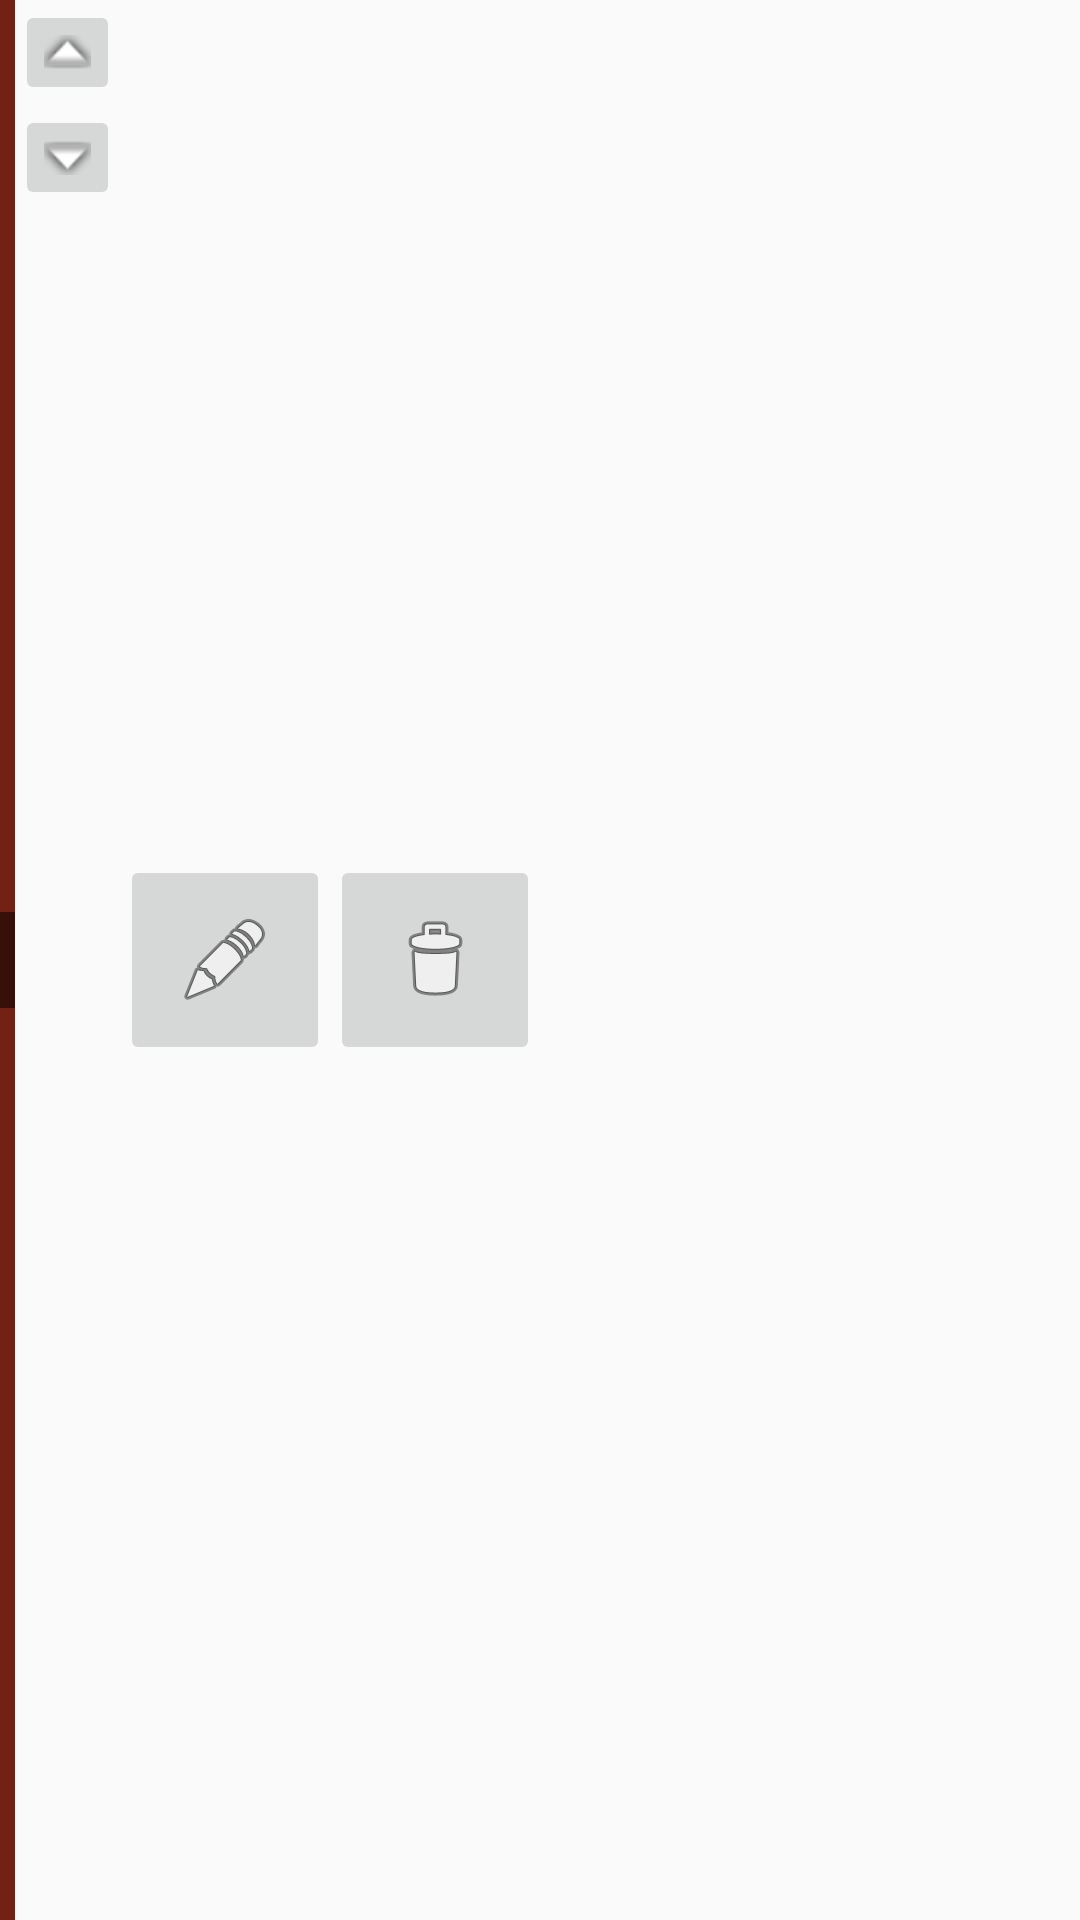

Icon click points for this 1080px×1920px phone screenshot, format point (x, y):
arrow down float: point (67, 157)
arrow up float: point (67, 52)
delete: point (435, 960)
edit: point (225, 960)
